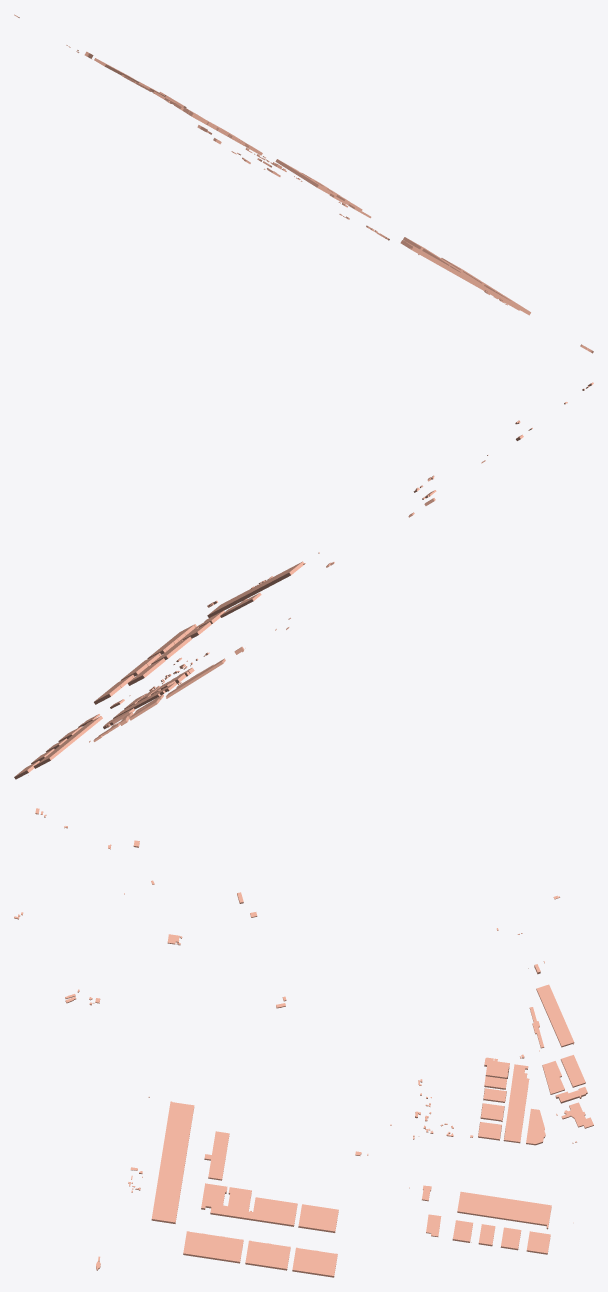
3 views of the same model, one above another, from view 1: azimuth 30°, elevation 25°; view 2: azimuth 150°, elevation 25°; view 3: azimuth 270°, elevation 25° (orthographic). The views are drawn at different scales.
Bounding box in the file's own units: 1782 × 1429 × 2512.
